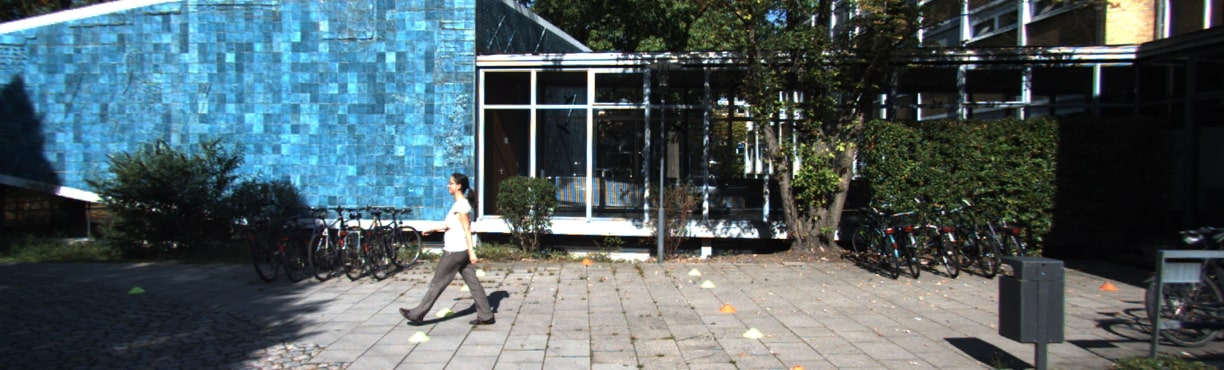person: (392, 163, 492, 341)
